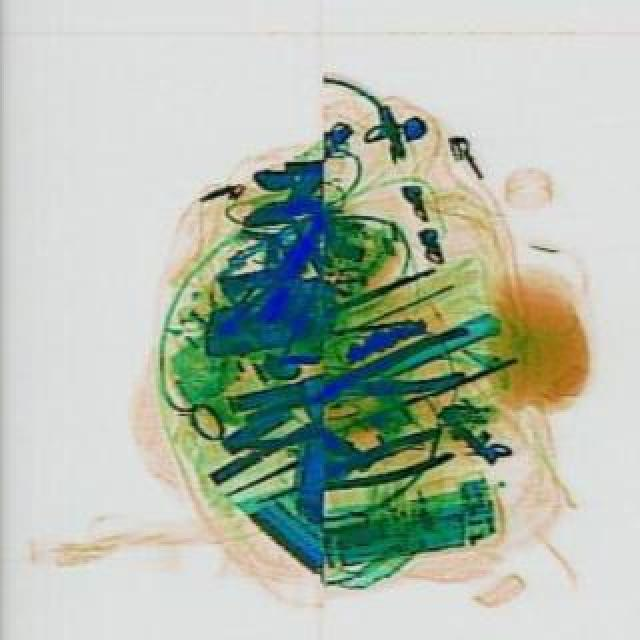wrench: (232, 324, 480, 444), (246, 420, 456, 520)
